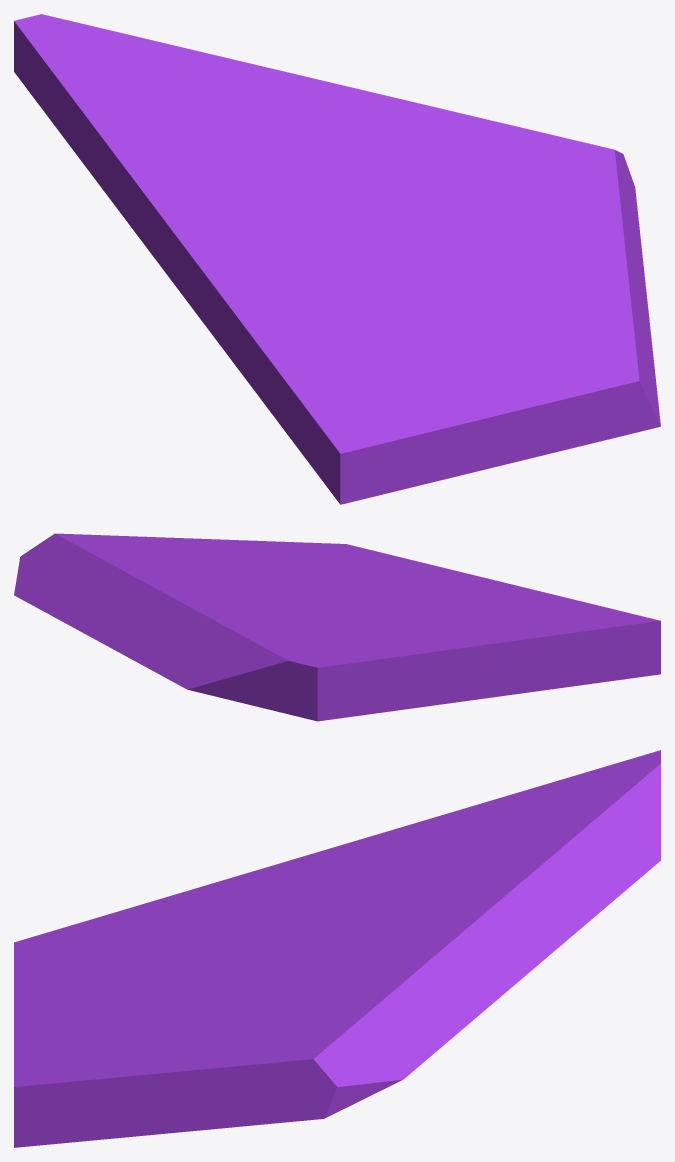
Rendered from Window_142_0_chunks.fbx.
3 renders of one model, top to bottom at view 1: azimuth 30°, elevation 25°; view 2: azimuth 150°, elevation 25°; view 3: azimuth 270°, elevation 25°, orthographic. The views are drawn at different scales.
Parts seen in each view (by area): view 1: Window_142_0_9, Window_142_0_1, Window_142_0_0, Window_142_0_30, Window_142_0_32, Window_142_0_5, Window_142_0_25, Window_142_0_2, Window_142_0_6, Window_142_0_24, Window_142_0_3, Window_142_0_33 (+12 smaller); view 2: Window_142_0_0, Window_142_0_6, Window_142_0_1, Window_142_0_10, Window_142_0_9, Window_142_0_32, Window_142_0_30, Window_142_0_16, Window_142_0_25, Window_142_0_2, Window_142_0_5, Window_142_0_24 (+9 smaller); view 3: Window_142_0_6, Window_142_0_5, Window_142_0_9, Window_142_0_0, Window_142_0_10, Window_142_0_1, Window_142_0_30, Window_142_0_32, Window_142_0_25, Window_142_0_2, Window_142_0_3, Window_142_0_24 (+7 smaller).
Boxes of the visible parts, x1,y1,x2,y2 form: Window_142_0_9: [470, 217, 660, 439]; Window_142_0_1: [121, 140, 378, 286]; Window_142_0_0: [14, 14, 199, 213]; Window_142_0_30: [250, 177, 476, 284]; Window_142_0_32: [201, 245, 372, 384]; Window_142_0_5: [513, 151, 654, 369]; Window_142_0_25: [387, 313, 587, 403]; Window_142_0_2: [101, 56, 255, 177]; Window_142_0_6: [385, 95, 626, 182]; Window_142_0_24: [303, 385, 459, 463]; Window_142_0_3: [388, 126, 513, 233]; Window_142_0_33: [362, 265, 472, 343]; Window_142_0_0: [163, 626, 431, 721]; Window_142_0_6: [14, 533, 187, 638]; Window_142_0_1: [272, 592, 514, 705]; Window_142_0_10: [94, 596, 222, 676]; Window_142_0_9: [229, 540, 400, 579]; Window_142_0_32: [419, 603, 598, 641]; Window_142_0_30: [244, 571, 446, 627]; Window_142_0_16: [576, 639, 660, 685]; Window_142_0_25: [379, 557, 529, 602]; Window_142_0_2: [231, 618, 440, 664]; Window_142_0_5: [58, 533, 240, 563]; Window_142_0_24: [524, 590, 660, 639]; Window_142_0_6: [303, 940, 522, 1095]; Window_142_0_5: [86, 1010, 324, 1140]; Window_142_0_9: [14, 994, 270, 1147]; Window_142_0_0: [488, 750, 660, 891]; Window_142_0_10: [467, 855, 624, 977]; Window_142_0_1: [290, 819, 435, 942]; Window_142_0_30: [220, 883, 346, 995]; Window_142_0_32: [135, 860, 304, 951]; Window_142_0_25: [14, 958, 150, 1061]; Window_142_0_2: [429, 801, 559, 878]; Window_142_0_3: [239, 944, 411, 1013]; Window_142_0_24: [14, 921, 86, 1000].
Size of the model in its own units: 929 by 482 by 1165.
